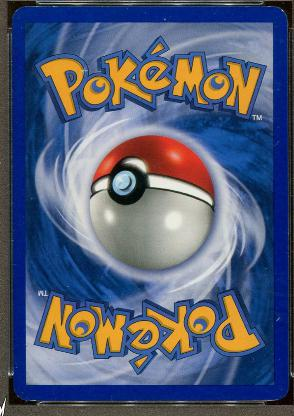Card: (11, 6, 289, 400)
Corner Wear: (12, 384, 37, 402), (11, 6, 22, 18), (276, 389, 287, 399), (273, 6, 283, 12)
Edge Wear: (285, 224, 288, 260), (11, 212, 13, 262), (242, 5, 271, 7), (47, 5, 58, 7), (30, 5, 37, 7)
Scratch: (266, 310, 283, 322), (270, 139, 278, 147), (77, 68, 89, 73), (247, 357, 255, 363), (275, 356, 281, 364), (160, 18, 168, 22), (212, 9, 217, 15), (261, 266, 267, 270), (109, 395, 112, 401), (125, 8, 129, 10), (142, 12, 146, 14), (278, 388, 280, 390)
